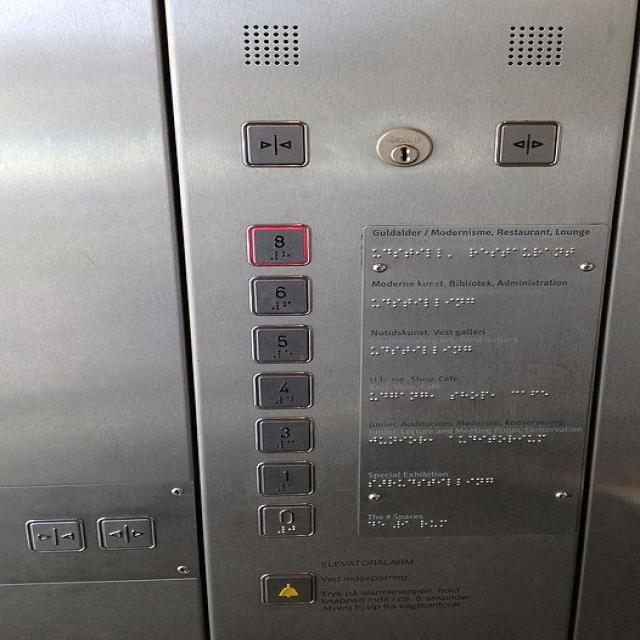0: (256, 500, 315, 538)
1: (253, 457, 315, 496)
3: (252, 414, 315, 454)
4: (251, 368, 314, 409)
5: (248, 321, 314, 363)
6: (246, 272, 314, 316)
8: (243, 220, 313, 268)
alarm: (258, 568, 318, 606)
close: (238, 118, 310, 168), (21, 515, 85, 553)
keyhole: (372, 124, 433, 168)
open: (490, 118, 562, 166), (95, 513, 156, 549)
